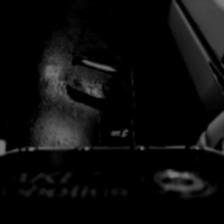Door Handle: (71, 55, 127, 105)
Lock: (101, 116, 129, 145)
